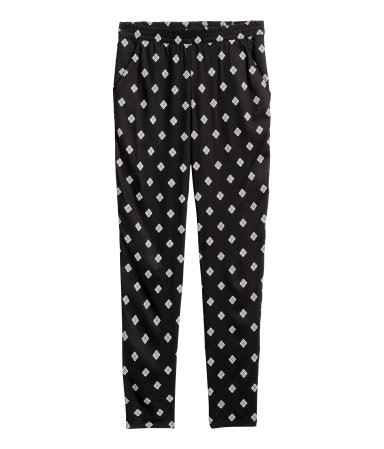bottom: (0, 0, 384, 449)
